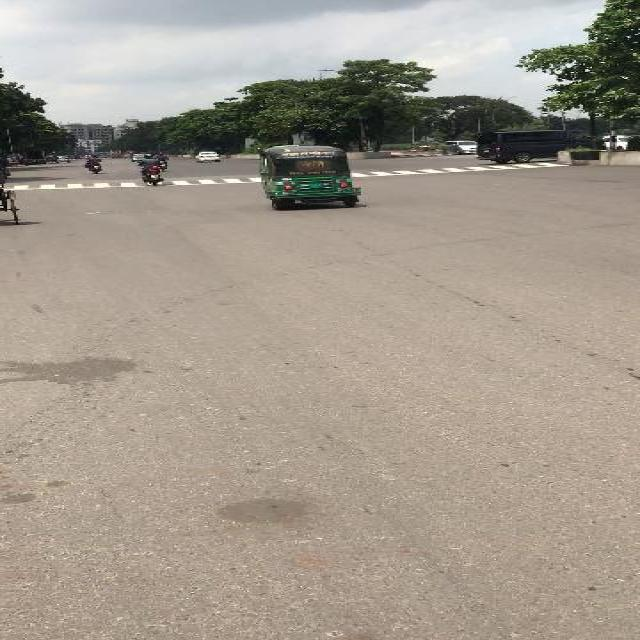bus: (109, 148, 122, 158)
car: (442, 140, 476, 154), (193, 150, 219, 162), (131, 153, 143, 161)
motorbike: (137, 152, 165, 185), (83, 154, 102, 174), (155, 152, 169, 172)
three wheelers -CNG-: (255, 144, 360, 210)
van: (478, 128, 604, 162)
